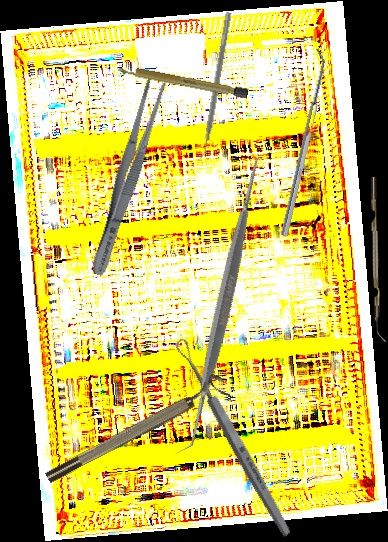Chopper: (370, 176, 387, 343)
Dressing Forceps: (84, 76, 170, 279)
Fixation Ring: (39, 371, 231, 487)
Scalpel Handle: (116, 63, 249, 99)
Spatula Surgical: (71, 150, 376, 455), (273, 48, 331, 237), (195, 10, 232, 163)
Surgical Spoon: (172, 335, 295, 540)
